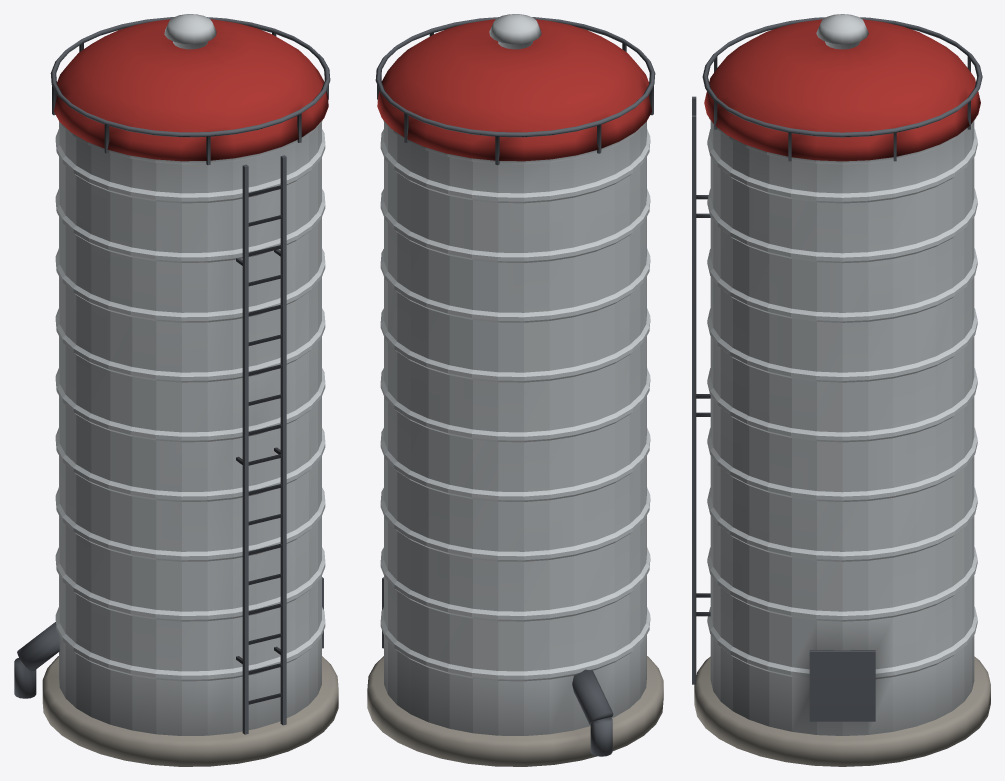
The model's file is silo.glb.
3 views of the same model, side by side, from view 1: azimuth 30°, elevation 25°; view 2: azimuth 150°, elevation 25°; view 3: azimuth 270°, elevation 25° (orthographic).
Parts seen in each view (by area): view 1: silo; view 2: silo; view 3: silo.
Part boxes in pixels (x1,y1,x2,y2): silo: (14,14,338,766); silo: (367,14,663,766); silo: (692,14,990,766).
Size of the model in its own units: 2.77 by 6.9 by 2.72.
